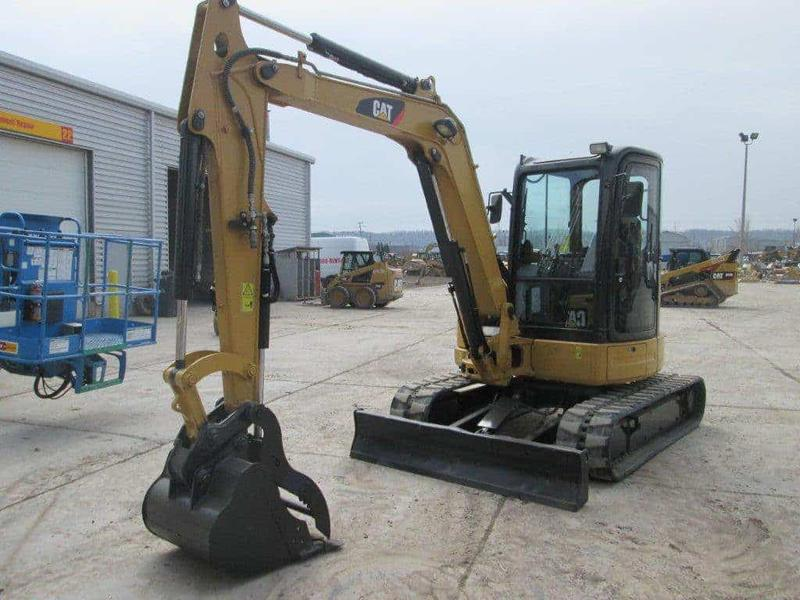shovel: (136, 4, 713, 577)
